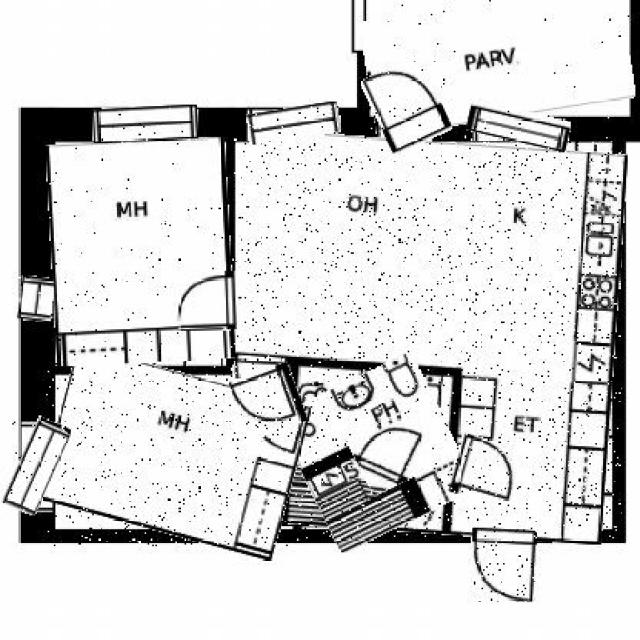door: (368, 59, 444, 150), (352, 416, 432, 490), (233, 366, 304, 436), (471, 529, 537, 603), (451, 437, 523, 503), (178, 272, 238, 331)
window: (11, 417, 62, 514), (468, 106, 569, 148), (94, 108, 198, 142), (246, 105, 340, 142), (18, 276, 54, 322)
zone: (230, 136, 622, 538), (46, 360, 303, 546), (49, 140, 234, 365), (363, 0, 632, 126), (289, 363, 465, 540)
